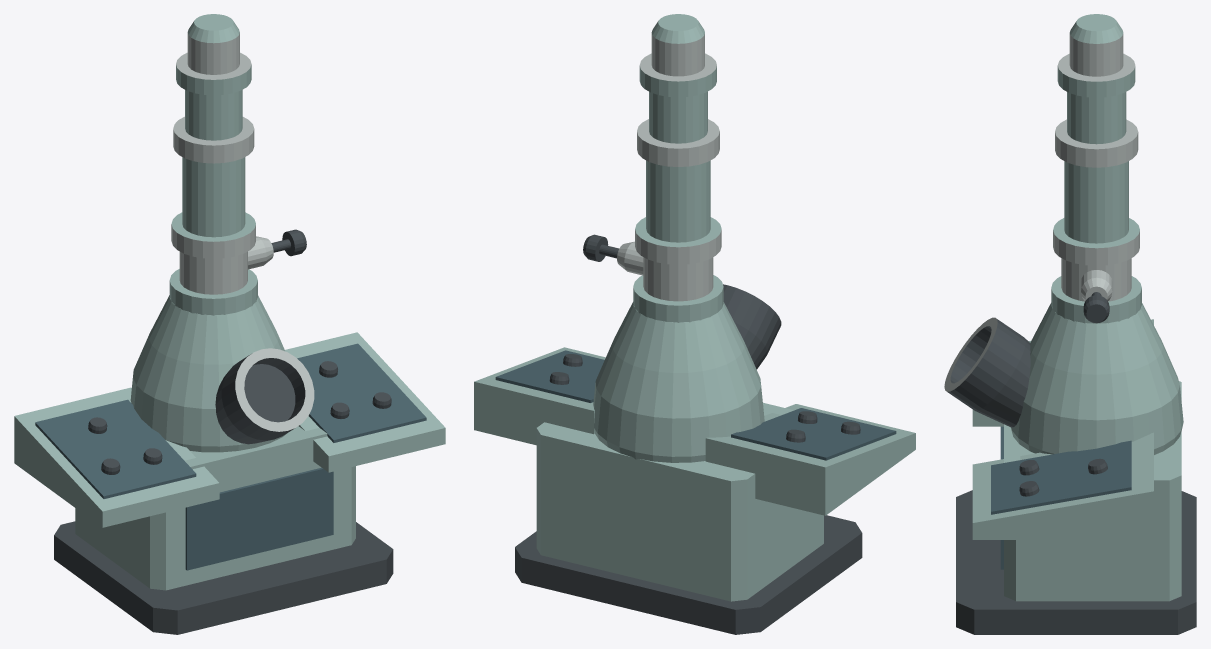
The picture shows the model from 3 angles, left to right: view 1: azimuth 30°, elevation 25°; view 2: azimuth 150°, elevation 25°; view 3: azimuth 270°, elevation 25°; orthographic projection. The views are drawn at different scales.
Parts seen in each view (by area): view 1: WholeLongSteppedUpperColumn, WholeGroundPlinth, WholeLowerObservationCabinet, WholeConicalObservationChamber, WholeLowerFrontInsetServiceFace, WholeSlopedControlWingLeft, WholeBlankInsetPanelLeft, WholeSlantedBlindObservationPort, WholeBlankInsetPanelRight, WholeSlopedControlWingRight, WholeSideStemAndHandle, WholeSideColumnBoss; view 2: WholeLowerObservationCabinet, WholeLongSteppedUpperColumn, WholeConicalObservationChamber, WholeGroundPlinth, WholeSlopedControlWingLeft, WholeSlopedControlWingRight, WholeBlankInsetPanelLeft, WholeBlankInsetPanelRight, WholeSlantedBlindObservationPort, WholeSideStemAndHandle, WholeSideColumnBoss; view 3: WholeLongSteppedUpperColumn, WholeConicalObservationChamber, WholeLowerObservationCabinet, WholeGroundPlinth, WholeSlopedControlWingRight, WholeSlantedBlindObservationPort, WholeBlankInsetPanelRight, WholeSideColumnBoss, WholeSideStemAndHandle.
Boxes of the visible parts, bbox=[...] form: WholeLongSteppedUpperColumn: bbox=[169, 14, 257, 315]; WholeGroundPlinth: bbox=[54, 521, 393, 634]; WholeLowerObservationCabinet: bbox=[75, 426, 355, 590]; WholeConicalObservationChamber: bbox=[130, 295, 287, 452]; WholeLowerFrontInsetServiceFace: bbox=[185, 467, 333, 570]; WholeSlopedControlWingLeft: bbox=[14, 387, 219, 527]; WholeBlankInsetPanelLeft: bbox=[35, 399, 196, 498]; WholeSlantedBlindObservationPort: bbox=[215, 348, 314, 444]; WholeBlankInsetPanelRight: bbox=[297, 343, 426, 442]; WholeSlopedControlWingRight: bbox=[285, 332, 445, 472]; WholeSideStemAndHandle: bbox=[271, 229, 306, 256]; WholeSideColumnBoss: bbox=[248, 236, 273, 269]; WholeLowerObservationCabinet: bbox=[536, 402, 823, 601]; WholeLongSteppedUpperColumn: bbox=[633, 14, 723, 322]; WholeConicalObservationChamber: bbox=[593, 302, 764, 462]; WholeGroundPlinth: bbox=[515, 515, 862, 634]; WholeSlopedControlWingLeft: bbox=[705, 404, 915, 515]; WholeSlopedControlWingRight: bbox=[474, 347, 605, 445]; WholeBlankInsetPanelLeft: bbox=[731, 408, 896, 460]; WholeBlankInsetPanelRight: bbox=[495, 350, 604, 402]; WholeSlantedBlindObservationPort: bbox=[723, 284, 781, 369]; WholeSideStemAndHandle: bbox=[583, 234, 618, 261]; WholeSideColumnBoss: bbox=[617, 241, 643, 275]; WholeLongSteppedUpperColumn: bbox=[1051, 14, 1141, 323]; WholeConicalObservationChamber: bbox=[1011, 303, 1183, 454]; WholeLowerObservationCabinet: bbox=[1004, 381, 1181, 601]; WholeGroundPlinth: bbox=[956, 490, 1196, 634]; WholeSlopedControlWingRight: bbox=[972, 432, 1153, 539]; WholeSlantedBlindObservationPort: bbox=[944, 317, 1030, 427]; WholeBlankInsetPanelRight: bbox=[991, 440, 1131, 514]; WholeSideColumnBoss: bbox=[1081, 270, 1112, 301]; WholeSideStemAndHandle: bbox=[1083, 292, 1109, 323].
Bounding box in the file's own units: 2.2 × 3.29 × 1.36.
